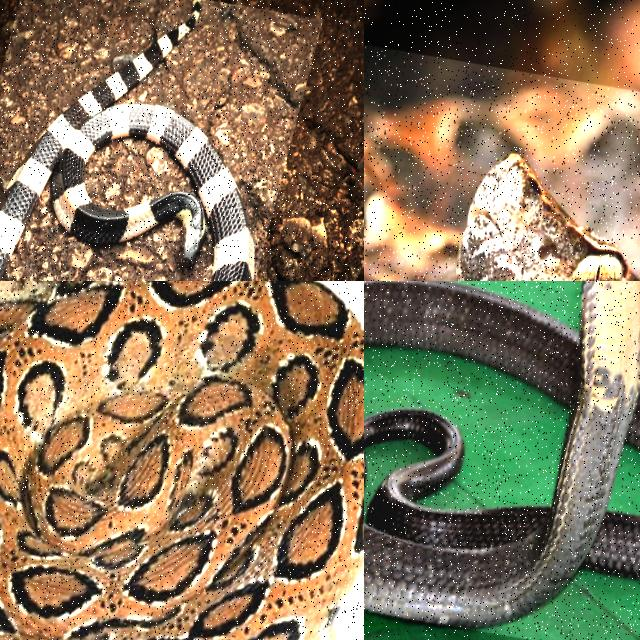Bungarus fasciatus: (0, 0, 253, 280)
Calloselasma rhodostoma: (364, 88, 639, 280)
Daboia siamensis: (0, 281, 363, 639)
Ophiophagus hannah: (364, 281, 639, 628)
